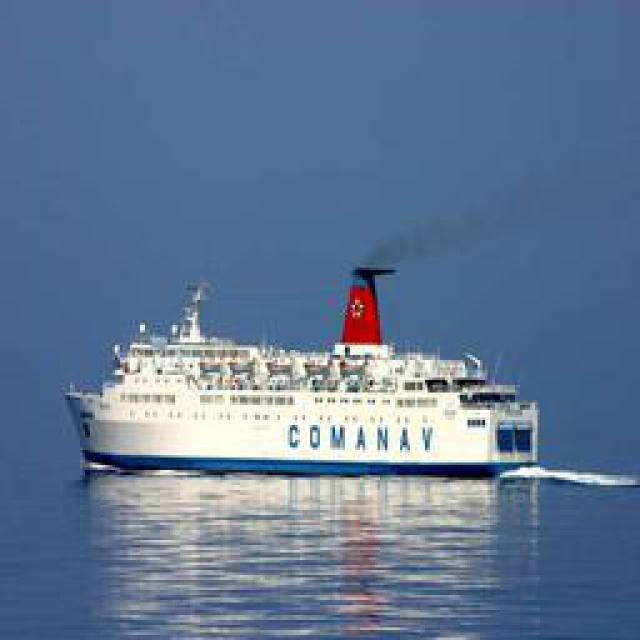Ship: (61, 262, 556, 480)
